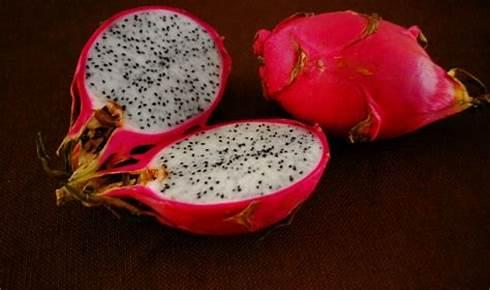dragon-fruit: (251, 9, 484, 120), (68, 8, 233, 134), (137, 123, 333, 210)
